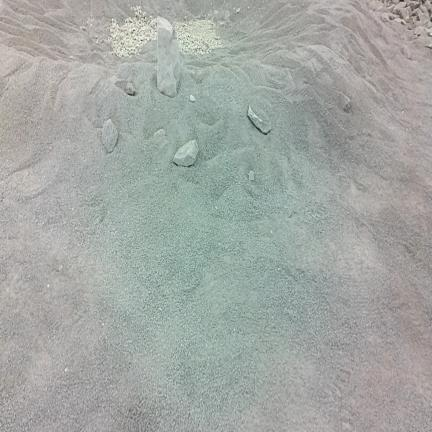Rock: (157, 17, 179, 97), (247, 106, 271, 134), (173, 140, 198, 166), (101, 119, 118, 153), (338, 92, 351, 112), (415, 10, 430, 26), (393, 2, 406, 16), (369, 0, 385, 11), (400, 7, 412, 21), (407, 0, 422, 10), (414, 26, 425, 38), (125, 83, 135, 95), (402, 46, 411, 59), (154, 129, 166, 138), (380, 12, 390, 22), (424, 0, 431, 12), (418, 5, 428, 13), (248, 170, 255, 181), (405, 17, 416, 24), (224, 11, 230, 20), (389, 14, 398, 20), (387, 5, 394, 12), (390, 0, 400, 4), (425, 43, 431, 49), (426, 29, 431, 36), (426, 22, 431, 29), (190, 95, 195, 102), (220, 22, 226, 27), (214, 10, 218, 16), (236, 8, 240, 13)
